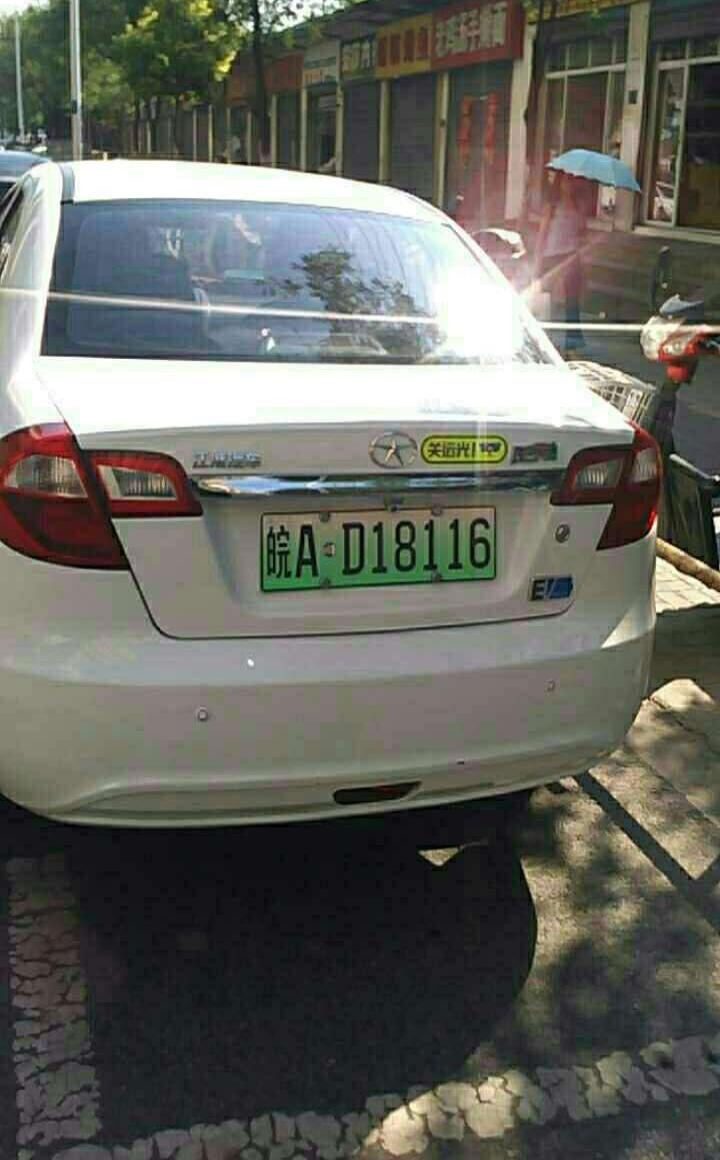car_id: (256, 507, 494, 590)
